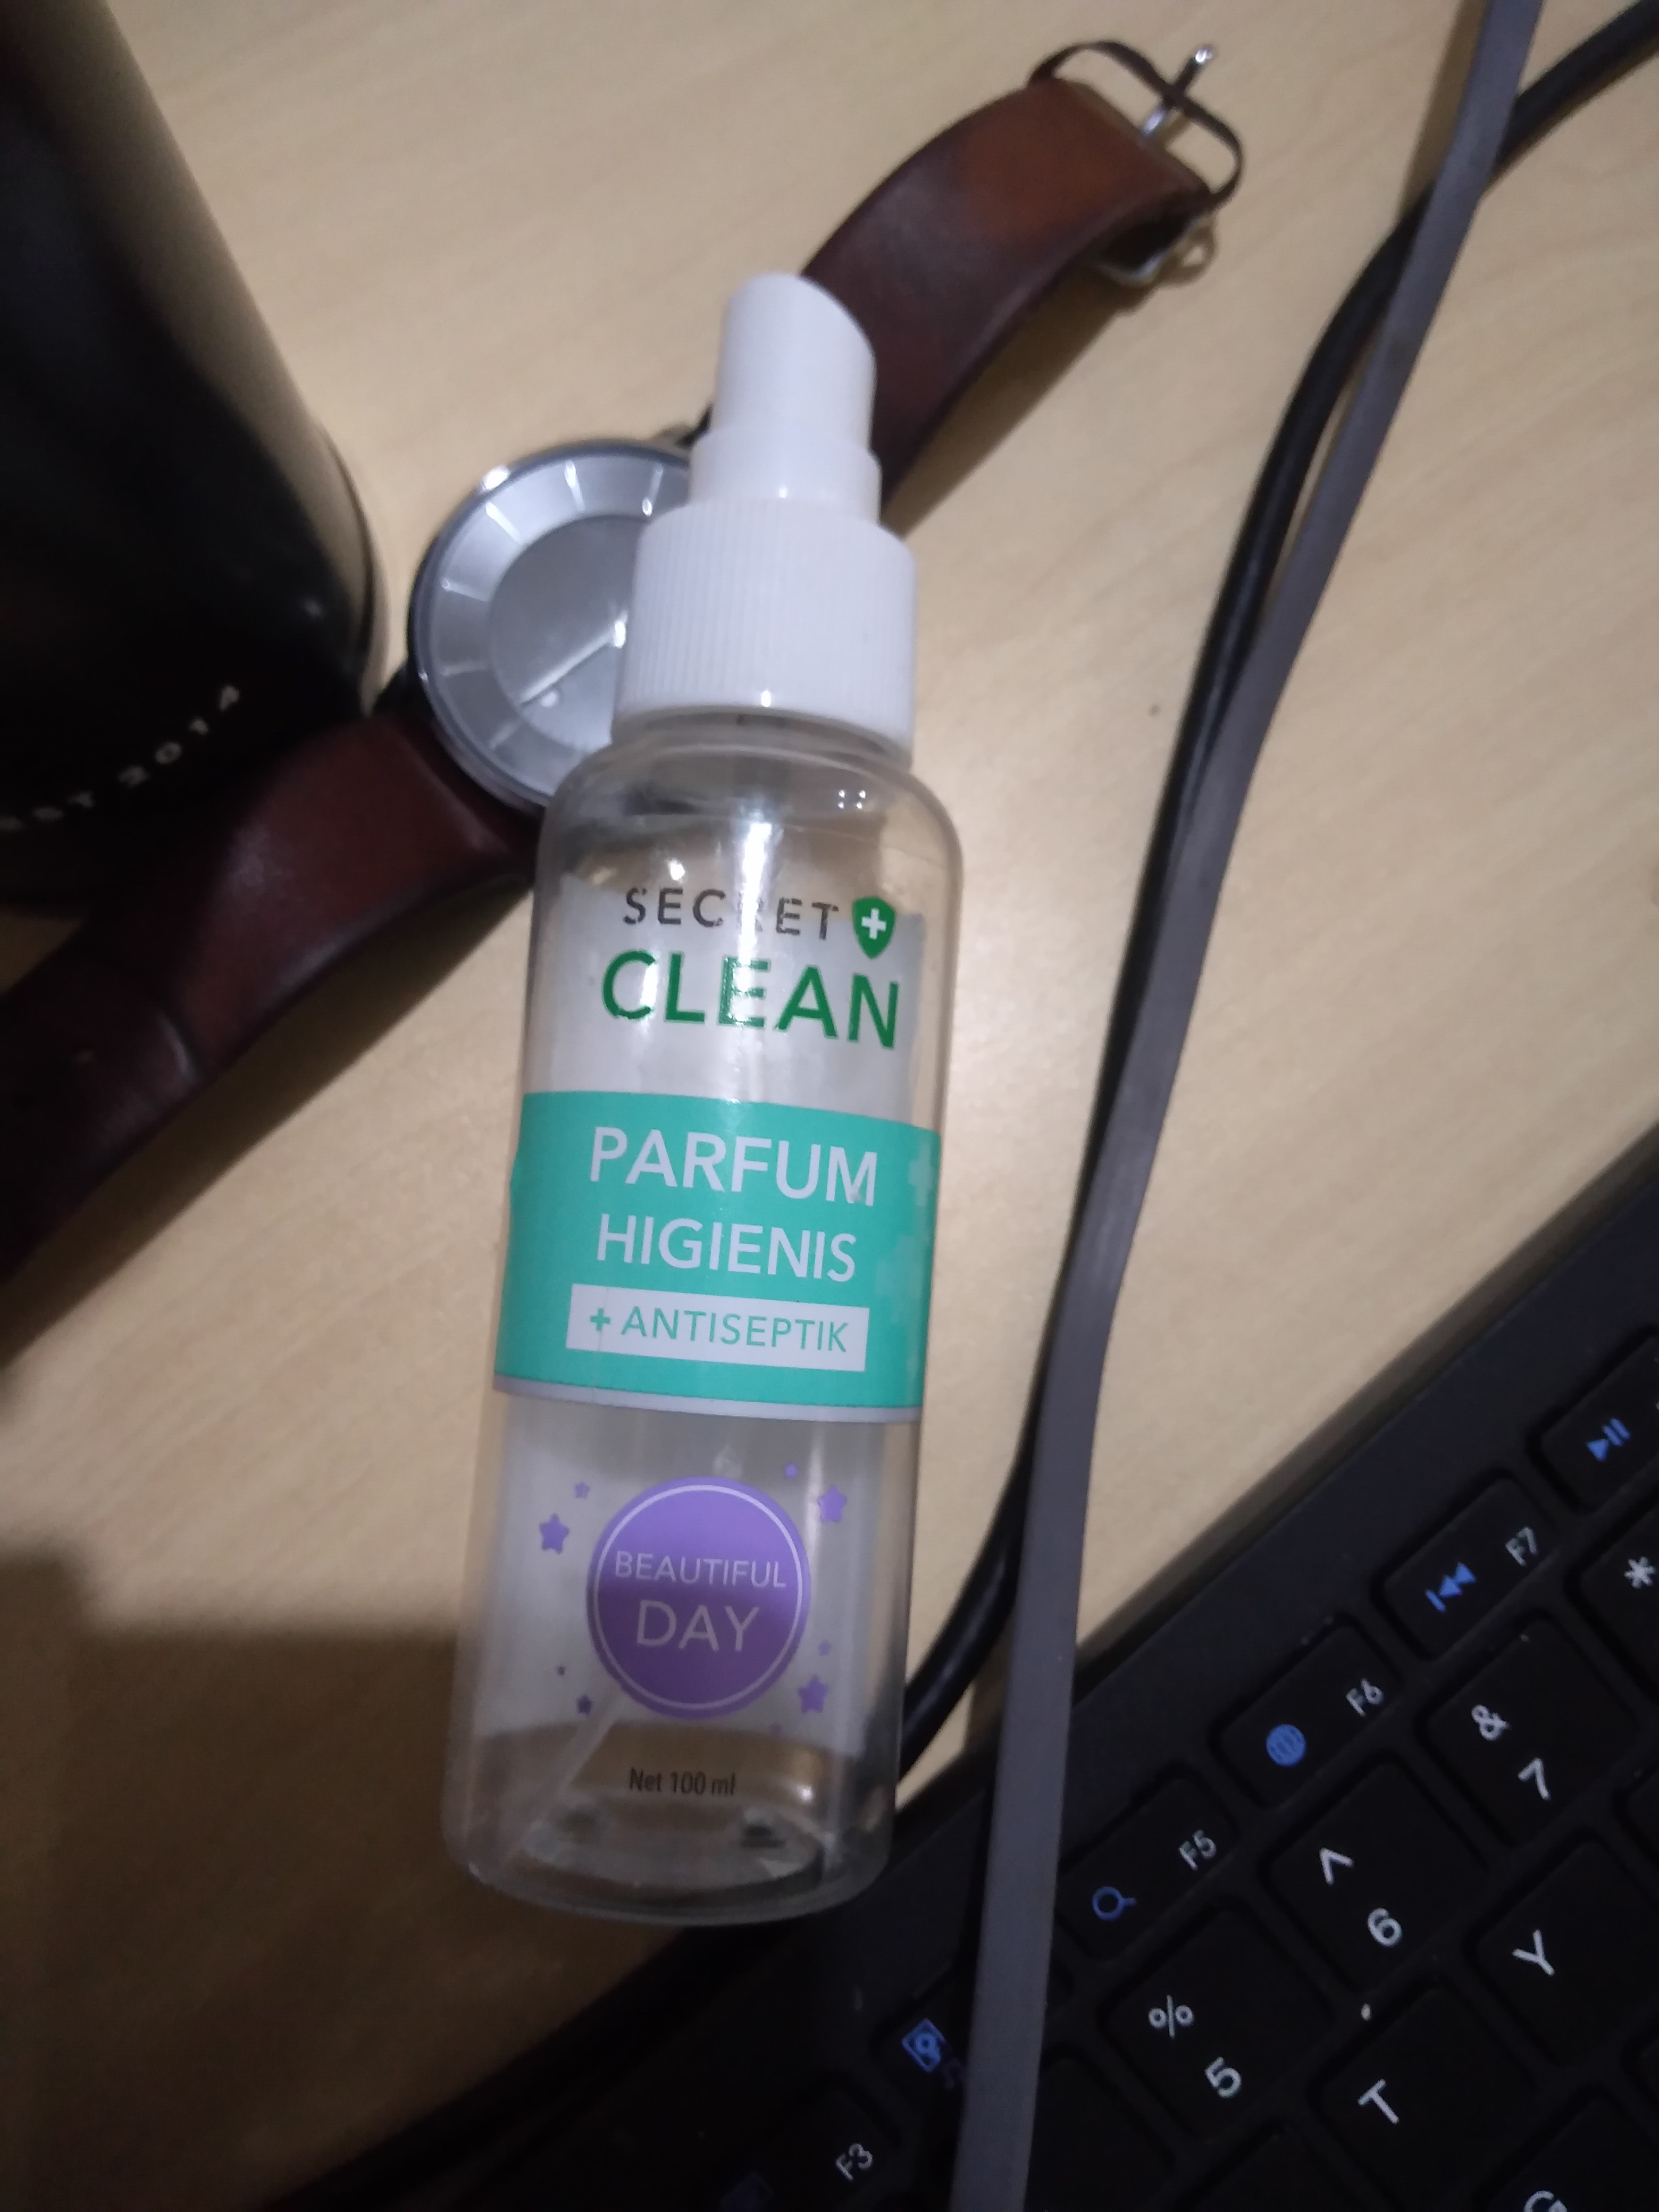hand sanitizer: (376, 172, 990, 1942)
